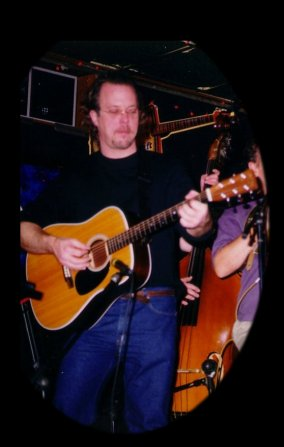guitar: (24, 168, 261, 339)
